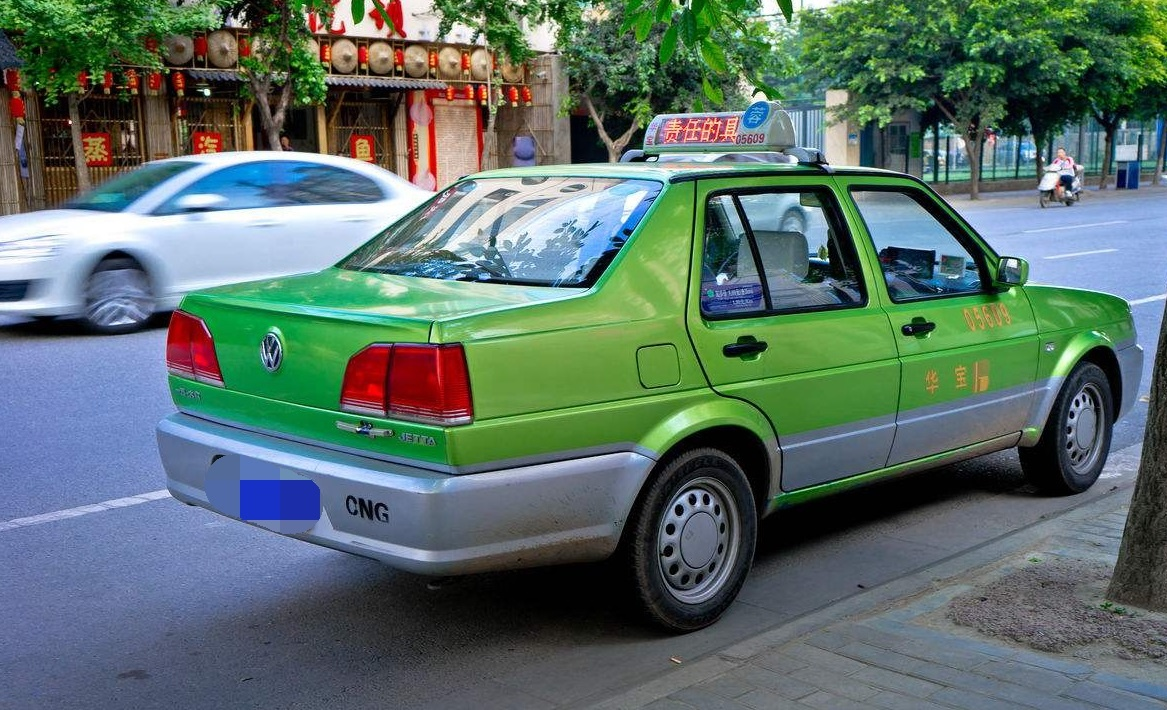taxi: (155, 132, 1140, 597)
